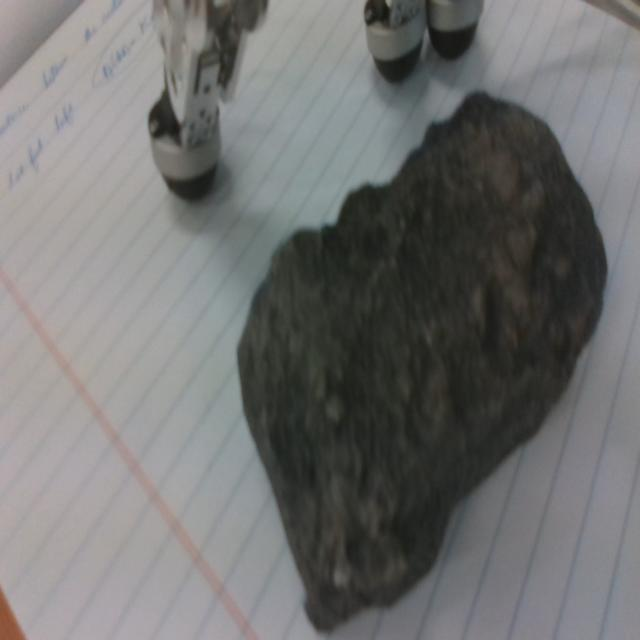stone: (236, 90, 609, 635)
